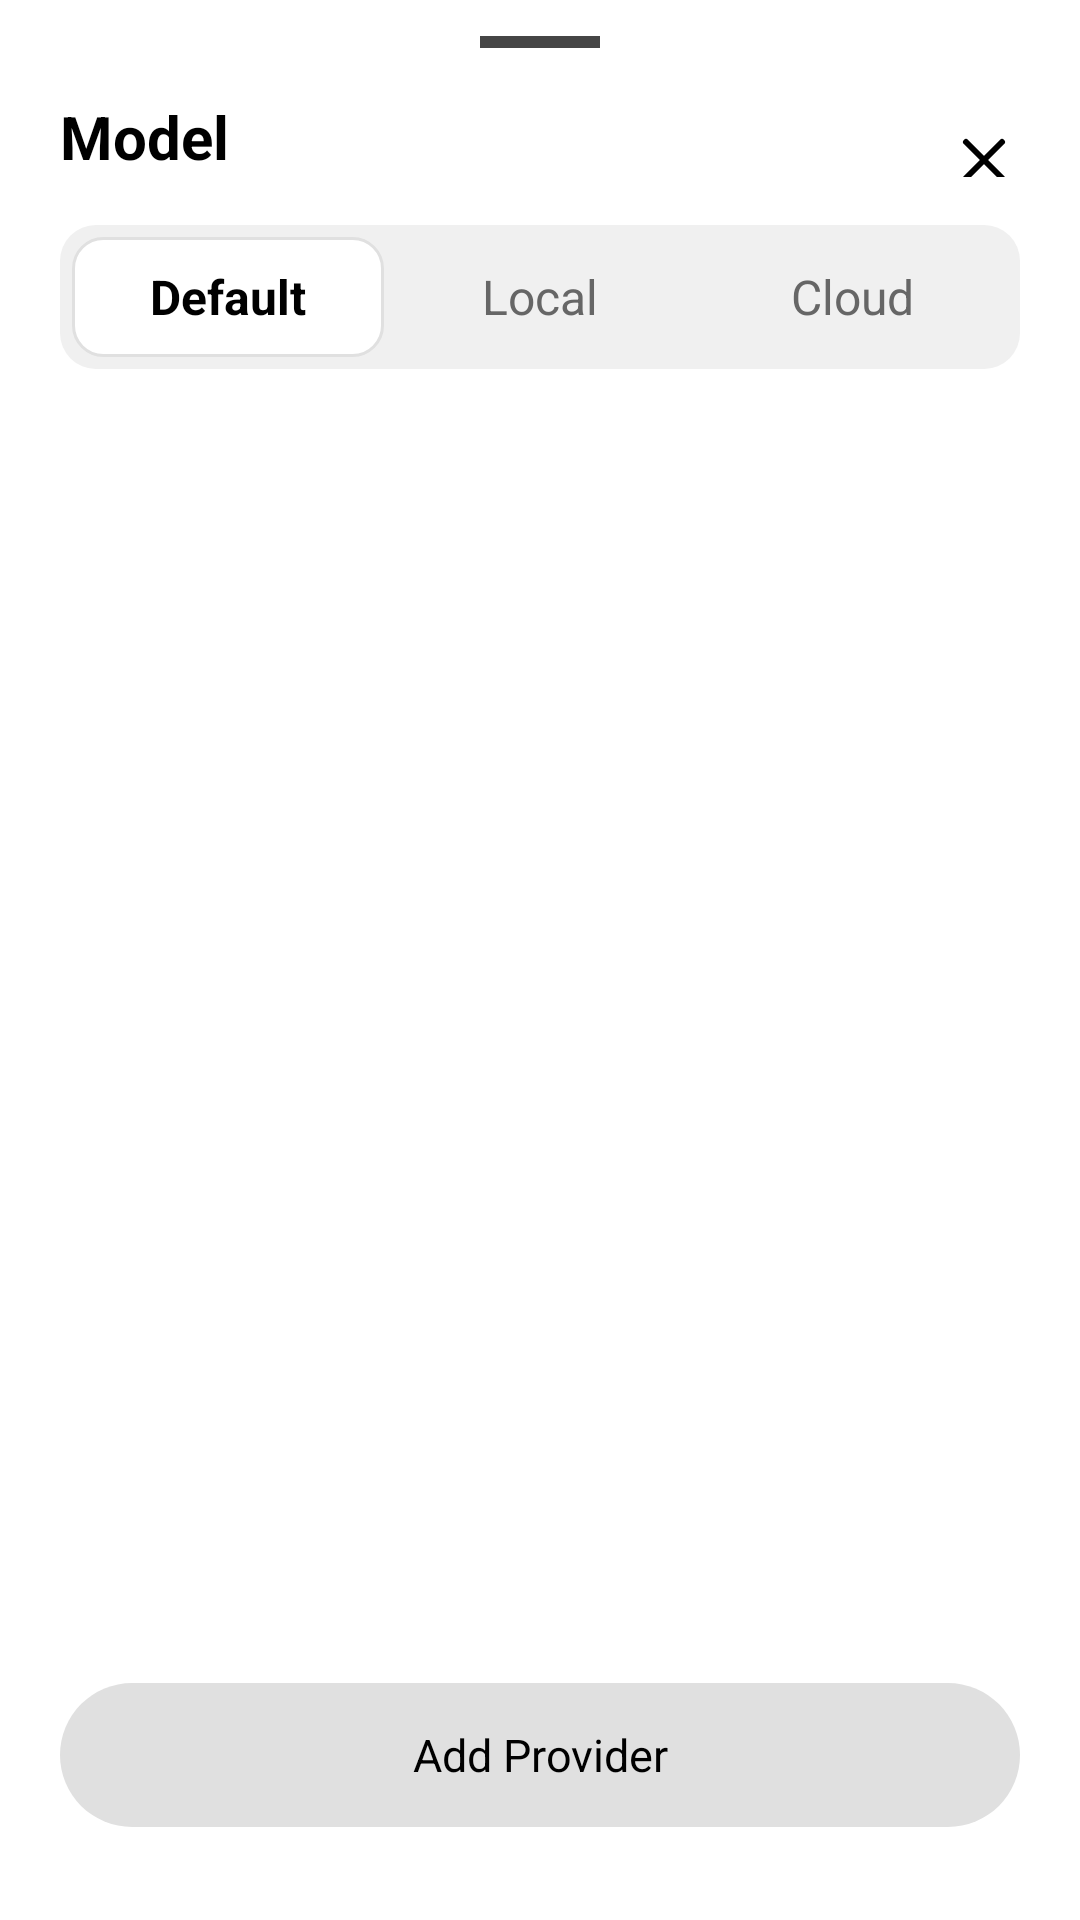

Screen size 1080×1920. Icon name, then its box in pixels as (x1, y1, x2, y2):
close: (963, 138, 1005, 177)
